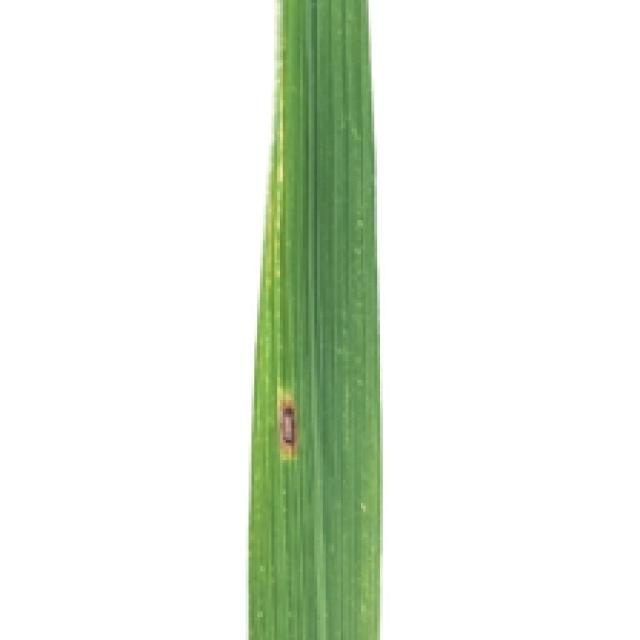Rice___Rice_Blast: (249, 0, 380, 637)
